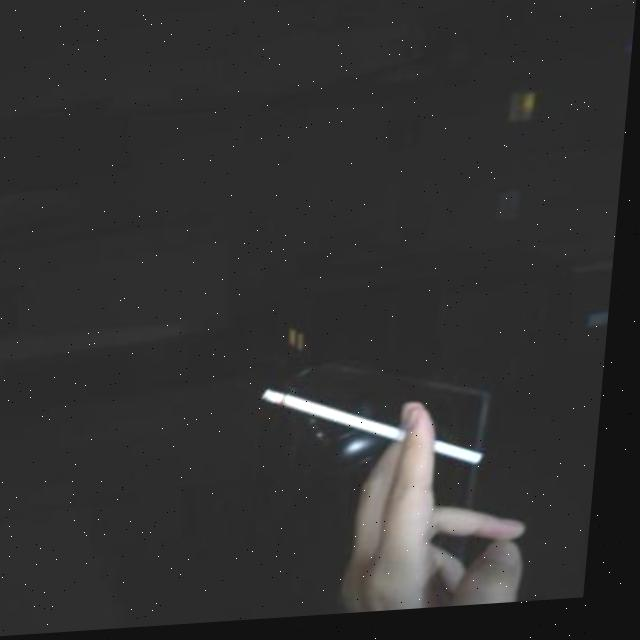cigarette: (261, 379, 498, 486)
